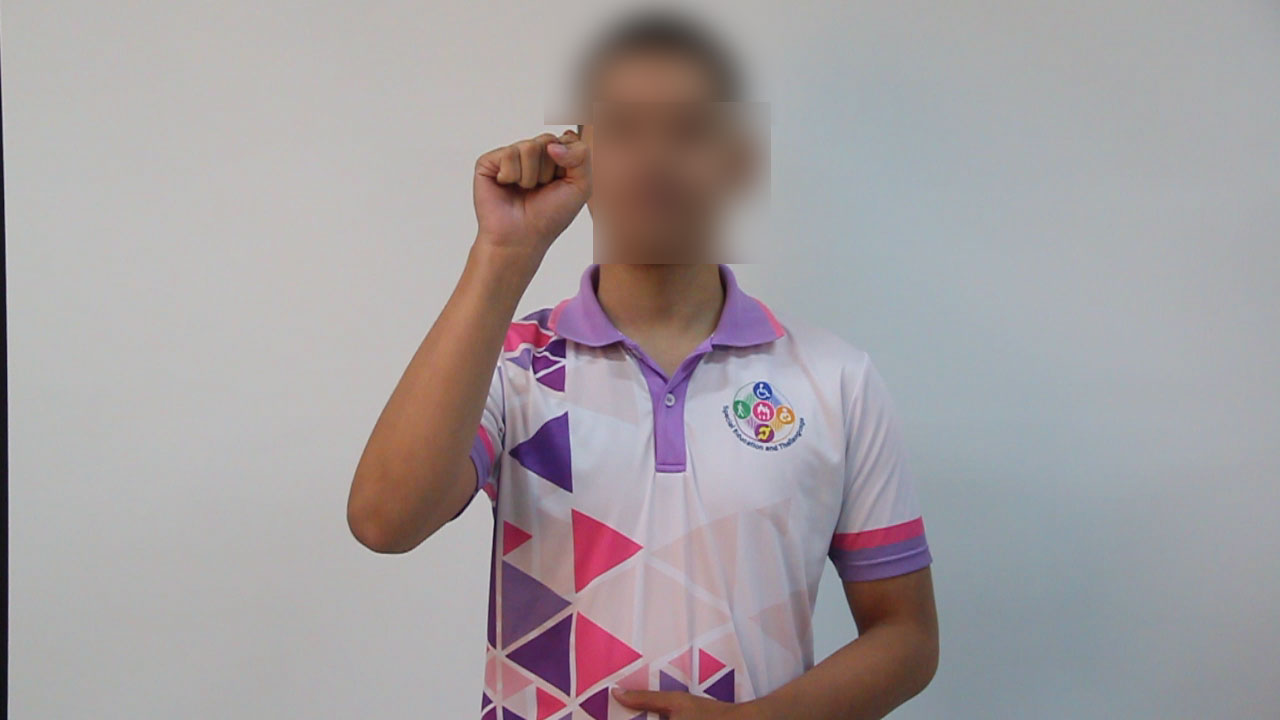sor: (468, 114, 596, 261)
